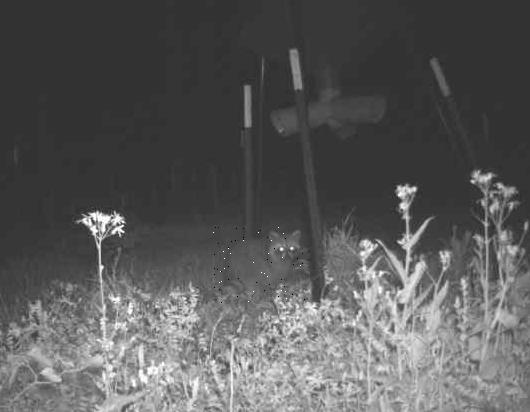Raccoon: (214, 226, 306, 306)
